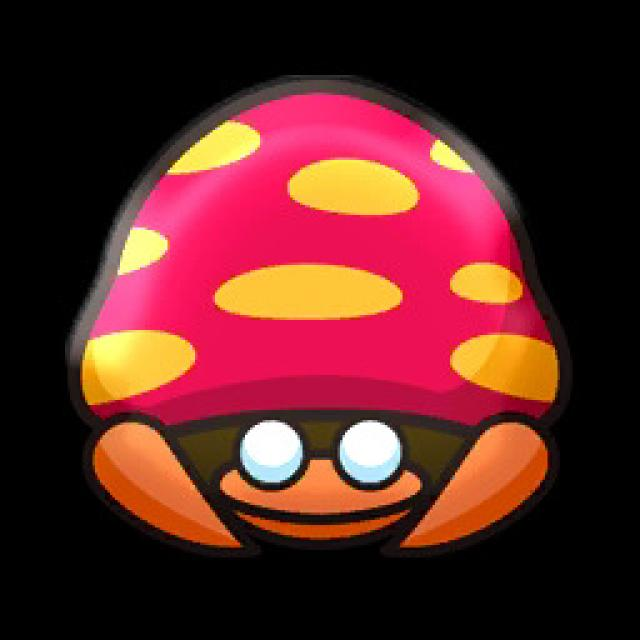Parasect: (72, 78, 553, 548)
